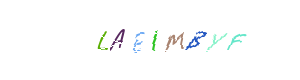1: (116, 0, 196, 80)
A: (88, 0, 168, 80)
B: (132, 0, 212, 80)
E: (109, 0, 189, 80)
F: (182, 0, 262, 80)
L: (78, 0, 158, 80)
M: (120, 0, 200, 80)
Y: (156, 0, 236, 80)
